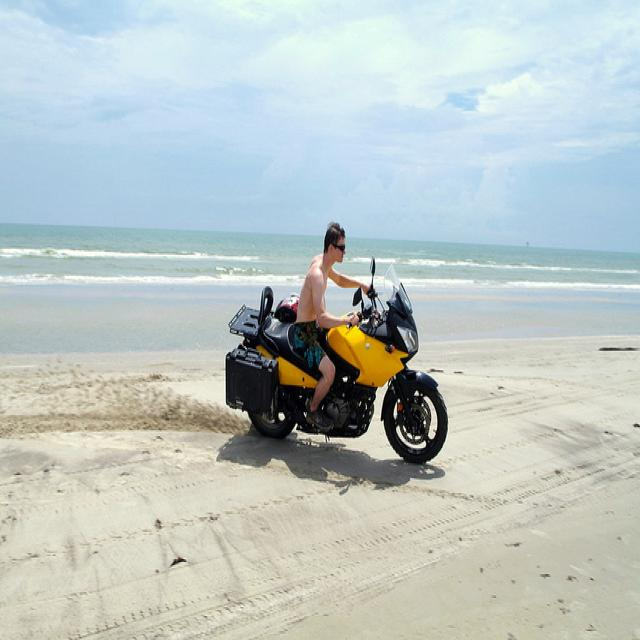motor: (224, 256, 450, 463)
